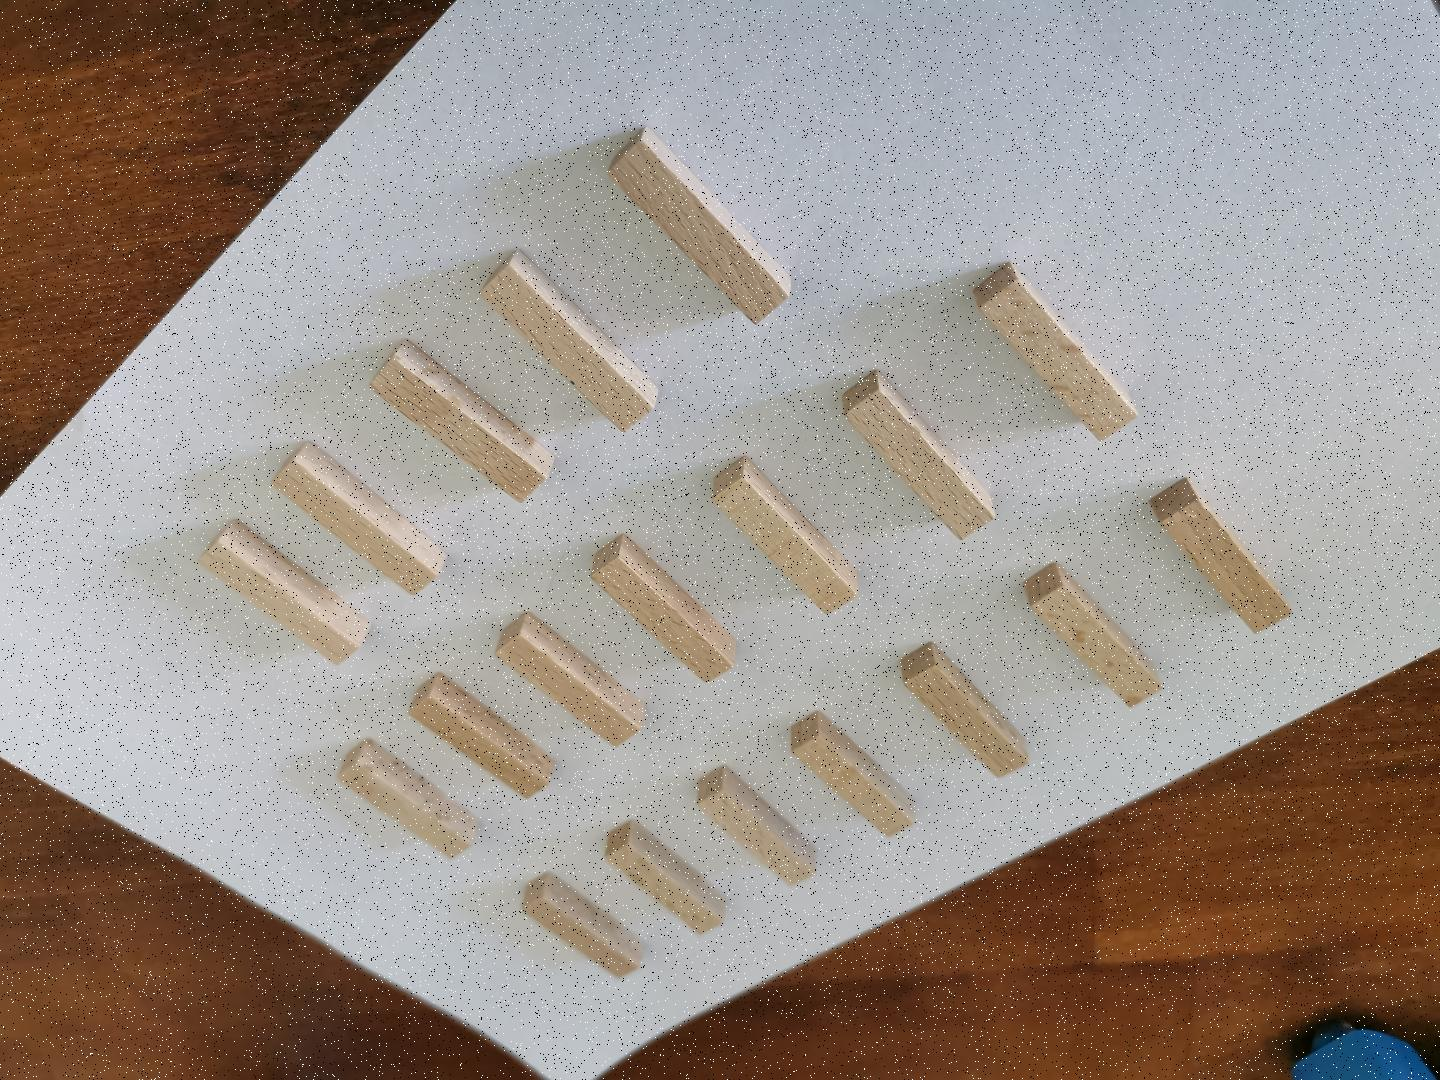jenga: (608, 129, 790, 323), (481, 250, 658, 430), (371, 340, 554, 501), (973, 264, 1136, 442), (841, 371, 996, 540), (273, 442, 444, 593), (200, 520, 371, 664), (712, 458, 858, 613), (1150, 478, 1291, 633), (591, 534, 737, 681), (1024, 562, 1162, 706), (495, 613, 644, 745), (411, 672, 554, 799), (900, 644, 1029, 776), (338, 740, 478, 858), (790, 712, 914, 835), (698, 768, 816, 886), (605, 821, 726, 934), (523, 875, 641, 976)
